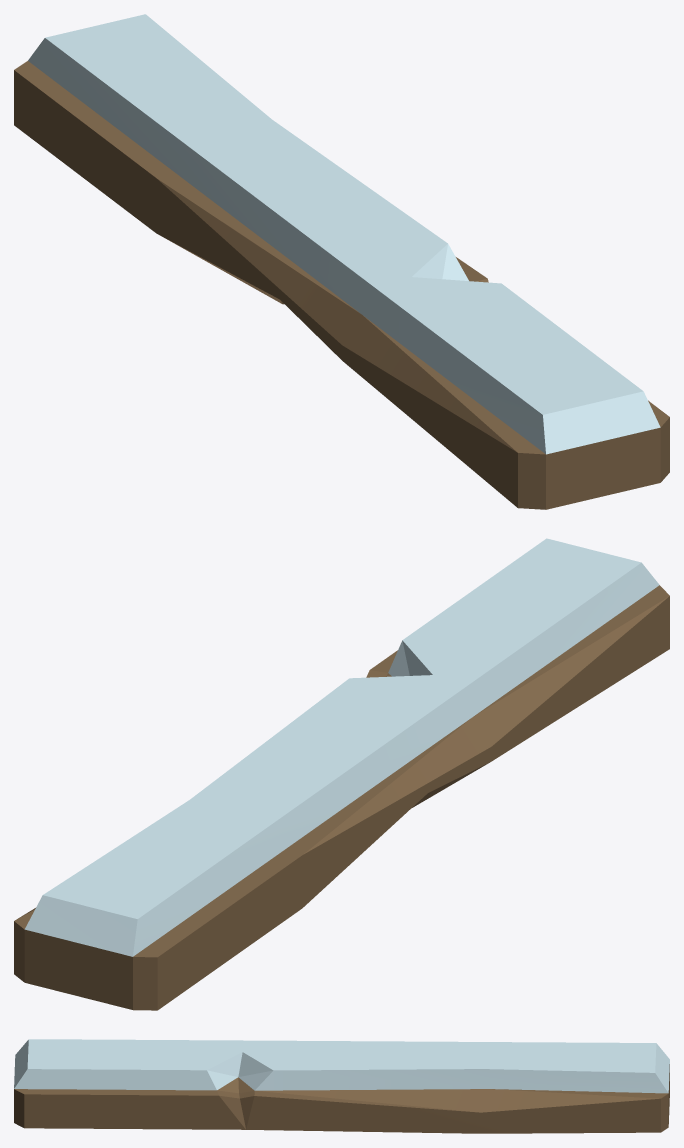
The model's file is Tablon01.glb.
3 renders of one model, top to bottom at view 1: azimuth 30°, elevation 25°; view 2: azimuth 150°, elevation 25°; view 3: azimuth 270°, elevation 25°, orthographic. The views are drawn at different scales.
Visible parts, largest first — view 1: SM_Env_Path_Wood_Plank_01_Snow; view 2: SM_Env_Path_Wood_Plank_01_Snow; view 3: SM_Env_Path_Wood_Plank_01_Snow.
Boxes of the visible parts, bbox=[...] form: SM_Env_Path_Wood_Plank_01_Snow: bbox=[14, 14, 669, 509]; SM_Env_Path_Wood_Plank_01_Snow: bbox=[14, 538, 669, 1010]; SM_Env_Path_Wood_Plank_01_Snow: bbox=[14, 1039, 669, 1133].
Bounding box in the file's own units: 0.5185 × 0.2491 × 2.84.
1 material, 1 textured.
